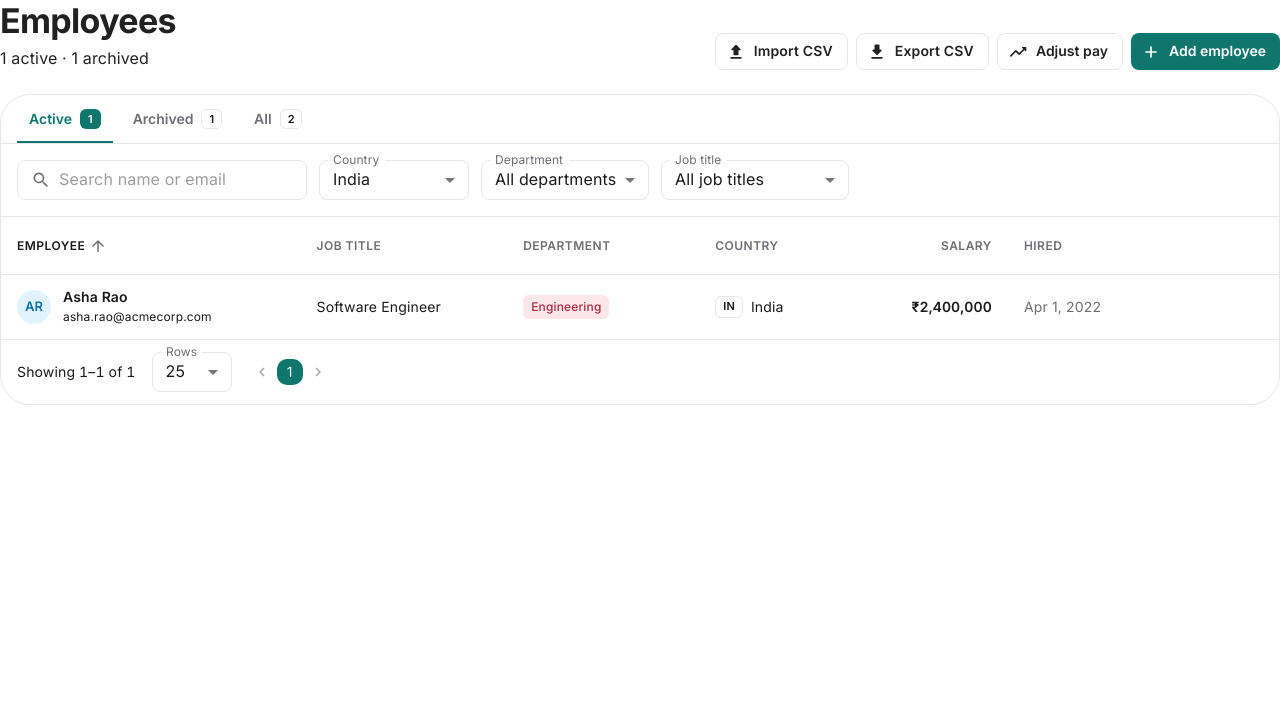
it: EmployeesPage › previews and applies a pay change to the filtered group
The image size is (1280, 720).
Click the button "Adjust pay".
click(1060, 52)  # box [997,34,1123,70]
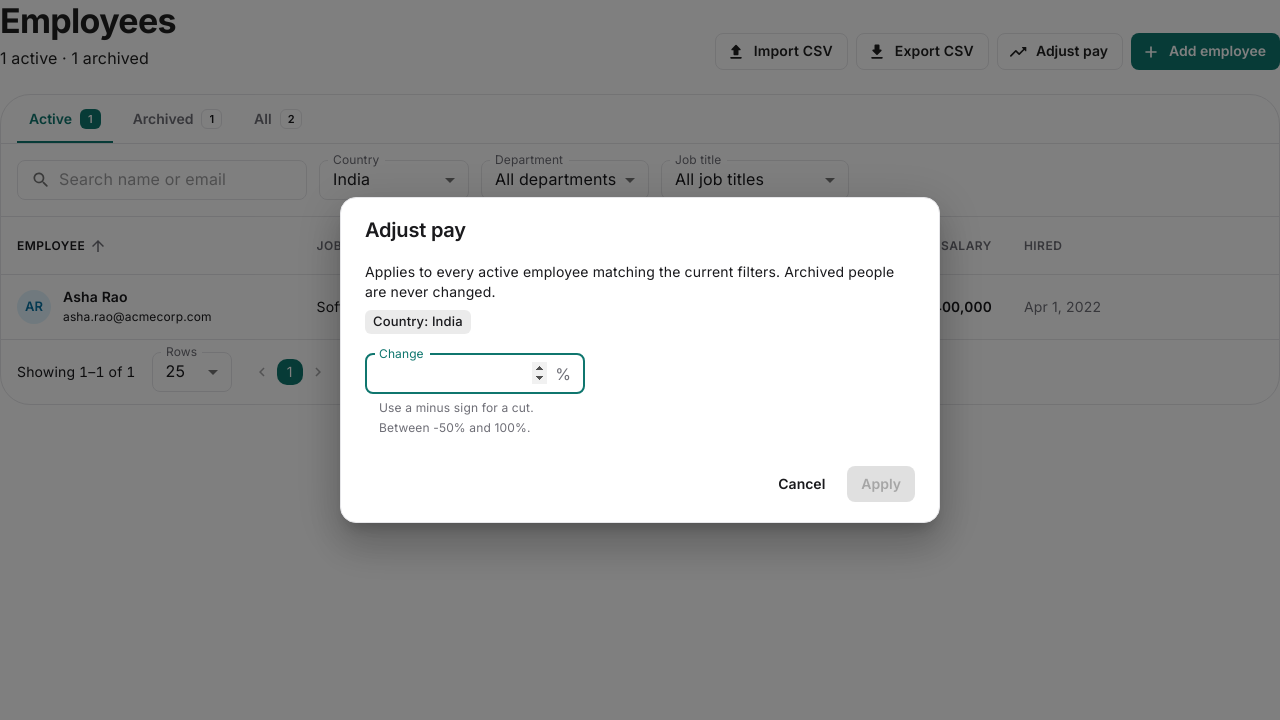
Result: the button "Apply" is disabled at [847,466,915,502]
Type "10" into the number field labelled "Change".
click(456, 374); type("10")  # box [365,354,547,394]
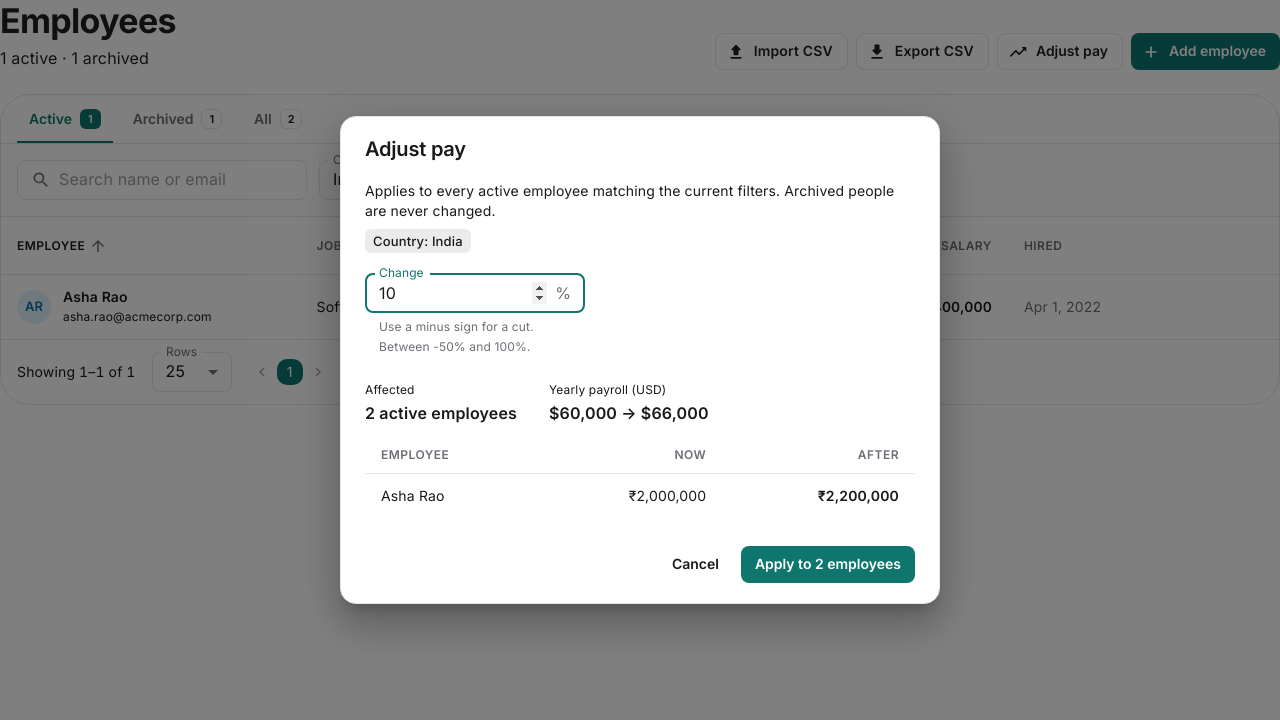
Result: the text "2 active employees" is shown at [365,401,517,425]
Result: the text "$60,000 → $66,000" is shown at [549,401,709,425]
Result: the text "₹2,200,000" is shown at [722,474,915,518]
Click the button "Apply to 2 employees".
click(828, 564)  # box [741,546,915,583]
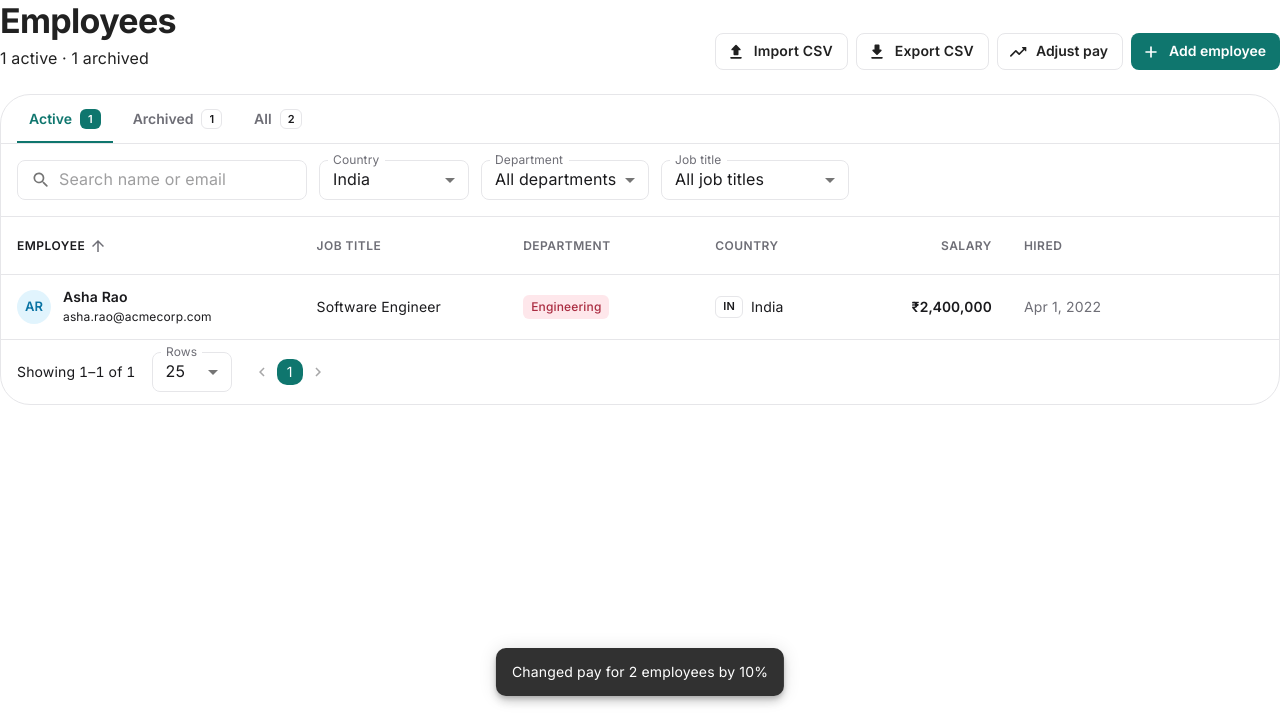
Result: the dialog is gone
Result: the text "Changed pay for 2 employees by 10%" is shown at [512,663,768,680]
